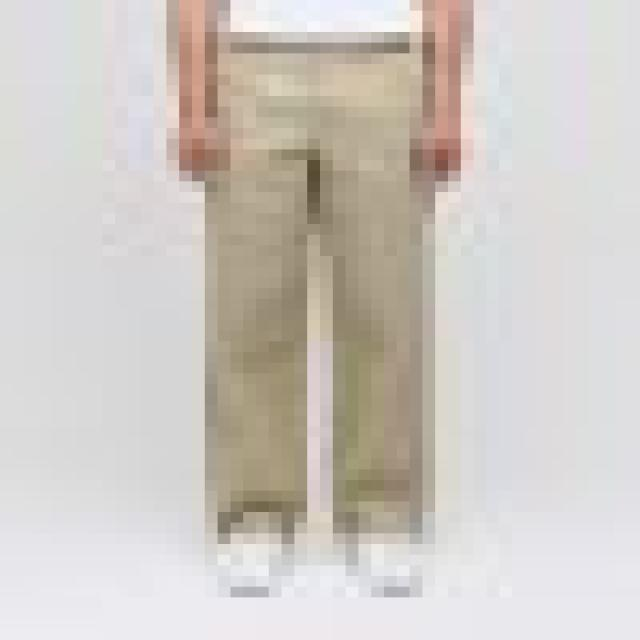long-pants: (206, 40, 434, 549)
